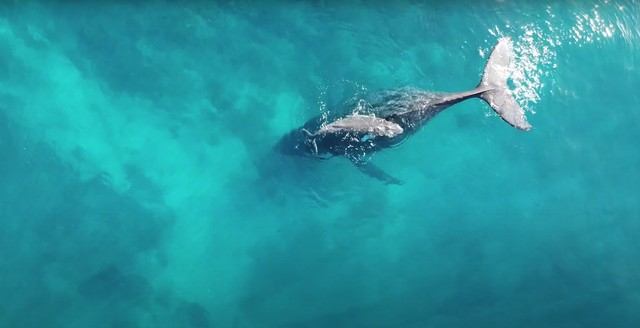whale: (265, 33, 548, 192), (297, 108, 405, 163)
